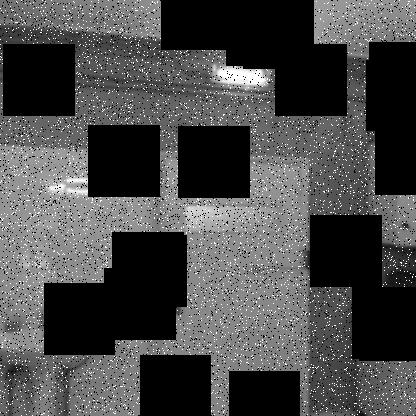Porte: (148, 152, 310, 416)
